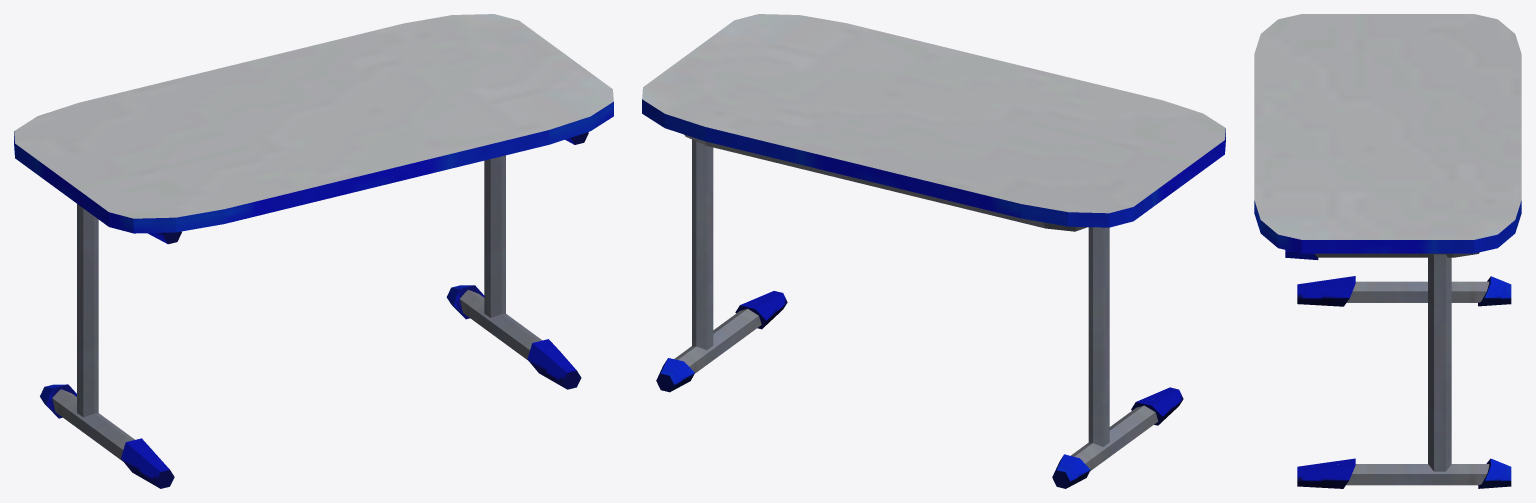
The model's file is Cadeira_Mesa_Escolar_Professor.fbx.
3 renders of one model, left to right at view 1: azimuth 30°, elevation 25°; view 2: azimuth 150°, elevation 25°; view 3: azimuth 270°, elevation 25°, orthographic. The views are drawn at different scales.
Visible parts, largest first — view 1: Mesa_Professor; view 2: Mesa_Professor; view 3: Mesa_Professor.
Part boxes in pixels (x1,y1,x2,y2): Mesa_Professor: (14,14,613,488); Mesa_Professor: (642,14,1225,488); Mesa_Professor: (1254,14,1521,488).
Size of the model in its own units: 71.12 by 38.88 by 35.56.
1 material, 1 textured.
